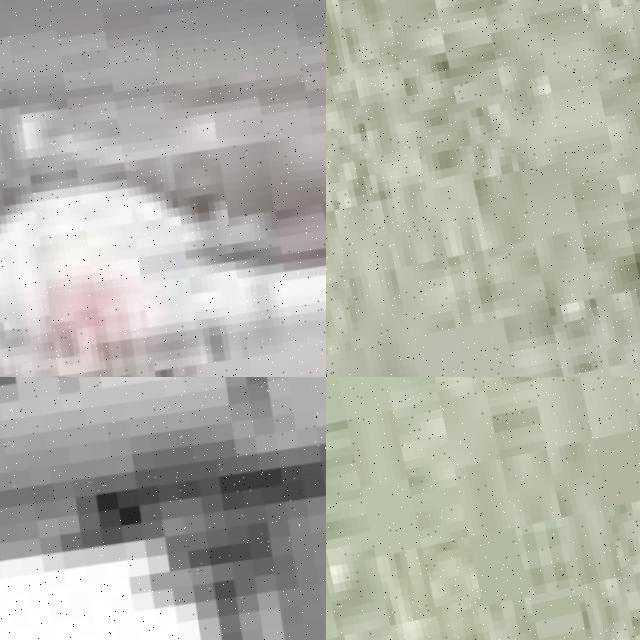drone: (0, 0, 326, 377), (0, 377, 326, 640)
